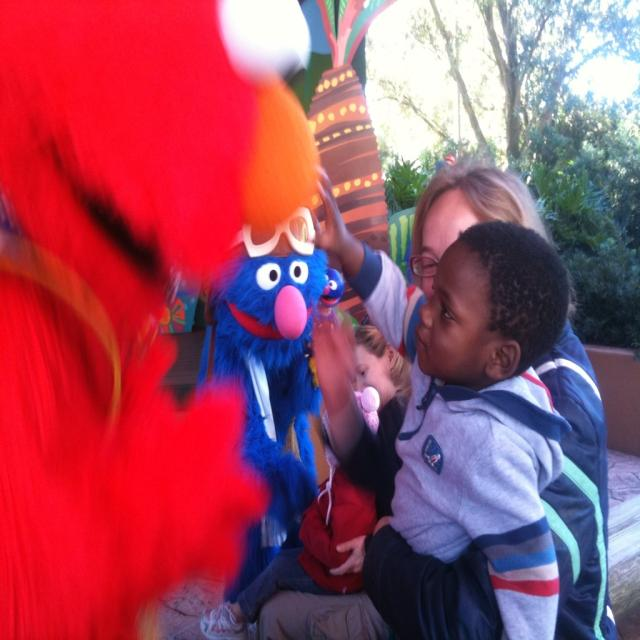Toy: (0, 0, 318, 639), (172, 188, 365, 582), (327, 384, 381, 470), (319, 271, 344, 318)
